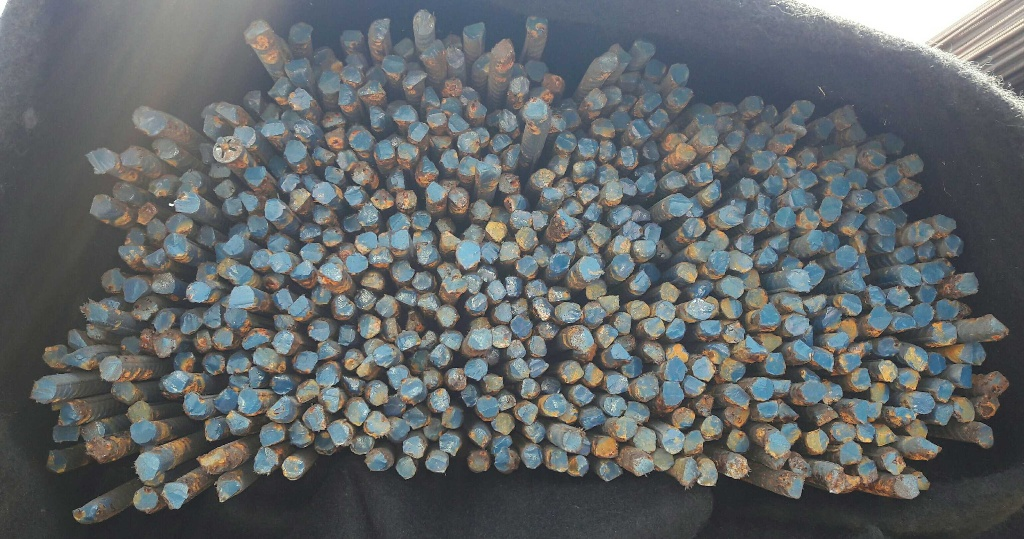dipstick: (132, 106, 166, 135), (86, 148, 116, 175), (244, 20, 274, 47), (213, 136, 244, 162), (980, 314, 1009, 341), (267, 396, 295, 422), (134, 452, 159, 481), (162, 483, 189, 509), (400, 378, 426, 404), (724, 384, 750, 410), (288, 188, 313, 215), (123, 277, 149, 302), (31, 378, 57, 403), (225, 411, 251, 436), (328, 421, 354, 446), (365, 412, 391, 437), (495, 448, 521, 473), (983, 371, 1008, 397), (132, 486, 159, 510), (153, 330, 177, 357), (254, 447, 278, 474), (303, 404, 327, 431), (635, 373, 659, 400), (883, 407, 915, 427), (677, 458, 699, 487), (912, 437, 941, 459), (217, 477, 242, 502), (316, 361, 341, 386), (565, 431, 590, 456), (894, 474, 919, 499), (259, 422, 285, 446), (346, 399, 370, 425), (632, 426, 656, 452), (801, 380, 827, 404), (166, 214, 193, 237), (43, 345, 70, 368), (367, 448, 394, 471), (160, 371, 188, 393), (98, 356, 122, 381), (87, 437, 112, 461), (183, 393, 207, 418), (322, 387, 346, 412), (456, 240, 480, 265), (641, 340, 665, 365), (720, 358, 745, 382), (819, 196, 843, 221), (766, 434, 791, 458), (881, 449, 905, 474), (214, 387, 237, 413), (404, 406, 430, 429), (567, 326, 593, 349), (67, 349, 95, 370), (722, 406, 750, 427), (237, 388, 261, 412), (357, 314, 381, 338), (101, 268, 124, 293), (229, 285, 254, 308), (253, 347, 278, 370), (666, 194, 691, 217), (663, 429, 686, 454), (932, 323, 957, 346), (974, 395, 999, 418), (110, 381, 136, 403), (130, 421, 156, 443), (199, 451, 225, 473), (366, 380, 388, 406), (580, 406, 606, 428), (704, 342, 730, 364), (555, 302, 582, 323), (782, 472, 803, 499), (242, 328, 270, 348), (202, 352, 226, 375), (295, 379, 318, 403), (349, 127, 373, 150), (372, 343, 395, 367), (426, 449, 449, 473), (579, 257, 602, 281), (723, 455, 747, 478), (692, 358, 716, 381), (836, 245, 859, 269), (787, 269, 810, 293), (806, 430, 829, 454), (870, 306, 893, 330), (897, 367, 920, 391), (417, 242, 439, 267), (463, 358, 488, 380), (491, 413, 516, 435), (587, 223, 612, 245), (701, 415, 723, 440), (708, 251, 730, 276), (961, 343, 986, 365), (90, 195, 113, 218), (164, 234, 187, 257), (440, 329, 463, 352), (515, 255, 538, 278), (515, 227, 538, 250), (495, 110, 518, 133), (612, 254, 635, 277), (727, 430, 750, 453), (133, 298, 157, 320), (57, 402, 81, 424), (293, 351, 317, 373), (388, 365, 410, 389), (562, 360, 584, 384), (583, 301, 605, 325), (554, 210, 576, 234), (671, 407, 695, 429), (664, 357, 686, 381), (743, 337, 767, 359), (843, 212, 865, 236), (871, 214, 895, 236), (906, 347, 928, 371), (175, 192, 200, 213), (319, 263, 344, 284), (391, 260, 416, 281), (153, 139, 179, 159), (830, 423, 856, 443), (953, 363, 973, 389), (698, 459, 717, 486), (180, 312, 202, 335), (289, 88, 311, 111), (214, 101, 236, 124), (233, 125, 256, 147), (247, 215, 269, 238), (282, 457, 305, 479), (284, 140, 307, 162), (343, 348, 365, 371), (402, 435, 424, 458), (437, 304, 459, 327), (835, 106, 857, 129), (751, 378, 774, 400), (909, 220, 932, 242), (127, 401, 151, 422), (227, 352, 251, 373), (272, 331, 293, 355), (313, 183, 337, 204), (414, 9, 435, 33), (413, 271, 437, 292), (468, 329, 492, 350), (547, 448, 568, 472), (595, 437, 619, 458), (763, 175, 787, 196), (785, 314, 809, 335), (821, 307, 842, 331), (874, 361, 898, 382), (888, 286, 912, 307), (935, 299, 959, 320), (910, 392, 934, 413), (186, 282, 211, 302), (523, 444, 543, 469), (683, 430, 703, 455), (687, 299, 712, 319), (812, 406, 837, 426), (955, 397, 975, 422), (359, 81, 385, 100), (86, 302, 108, 324), (289, 295, 311, 317), (333, 295, 355, 317), (354, 288, 376, 310), (429, 345, 451, 367), (524, 421, 546, 443), (544, 394, 566, 416), (492, 39, 514, 61), (526, 60, 548, 82), (573, 161, 595, 183), (615, 417, 637, 439), (722, 276, 744, 298), (840, 442, 862, 464), (901, 154, 923, 176), (941, 235, 963, 257), (270, 373, 293, 394), (324, 129, 347, 150), (370, 19, 391, 42), (457, 132, 480, 153), (352, 161, 373, 184), (371, 188, 394, 209), (439, 433, 462, 454), (476, 396, 499, 417), (511, 315, 532, 338), (604, 395, 627, 416), (524, 98, 547, 119), (596, 163, 619, 184), (629, 270, 650, 293), (622, 355, 643, 378), (626, 402, 649, 423), (707, 228, 728, 251), (780, 293, 803, 314), (827, 332, 850, 353), (804, 263, 825, 286), (866, 284, 887, 307), (922, 263, 945, 284), (300, 243, 324, 263), (719, 205, 743, 225), (752, 150, 776, 170), (876, 337, 900, 357), (461, 383, 480, 408), (532, 297, 551, 322), (530, 168, 555, 187), (476, 161, 502, 179), (47, 451, 68, 473), (174, 351, 195, 373), (308, 320, 330, 341), (355, 232, 377, 253), (376, 294, 397, 316), (441, 407, 463, 428), (567, 455, 588, 477), (644, 317, 666, 338), (633, 453, 654, 475), (722, 321, 744, 342), (711, 145, 732, 167), (765, 353, 786, 375), (840, 293, 862, 314), (839, 352, 861, 373), (779, 401, 800, 423), (899, 265, 921, 286), (854, 189, 876, 210), (913, 304, 934, 326), (926, 353, 947, 375), (933, 380, 954, 402), (152, 273, 175, 293), (153, 311, 176, 331), (81, 422, 104, 442), (212, 327, 232, 350), (224, 308, 247, 328), (359, 203, 379, 226), (418, 157, 438, 180), (369, 247, 392, 267), (398, 330, 421, 350), (396, 456, 416, 479), (492, 325, 512, 348), (599, 461, 622, 481), (542, 73, 565, 93), (633, 239, 656, 259), (663, 381, 683, 404), (690, 241, 713, 261), (933, 214, 956, 234), (142, 248, 166, 267), (431, 388, 450, 412), (591, 119, 615, 138), (826, 470, 845, 494), (975, 425, 994, 449), (361, 272, 386, 290), (319, 72, 340, 93), (337, 150, 358, 171), (468, 451, 489, 472), (499, 173, 520, 194), (458, 155, 479, 176), (585, 88, 606, 109), (602, 183, 623, 204), (677, 262, 698, 283), (775, 207, 796, 228), (757, 248, 778, 269), (907, 418, 928, 439), (204, 419, 224, 441), (244, 166, 266, 186), (218, 258, 238, 280), (270, 252, 292, 272), (373, 140, 395, 160), (468, 428, 490, 448), (418, 293, 440, 313), (469, 200, 491, 220), (721, 298, 743, 318), (792, 341, 814, 361), (814, 351, 834, 373), (845, 169, 867, 189), (957, 273, 979, 293), (290, 22, 313, 41), (230, 265, 253, 284), (274, 289, 293, 312), (312, 146, 335, 165), (382, 55, 405, 74), (345, 254, 368, 273), (447, 367, 466, 390), (598, 324, 617, 347), (503, 194, 526, 213), (594, 52, 617, 71), (576, 139, 599, 158), (670, 63, 689, 86), (682, 375, 705, 394), (822, 160, 845, 179), (849, 401, 868, 424), (285, 58, 309, 76), (316, 340, 340, 358), (261, 119, 285, 137), (340, 30, 364, 48), (443, 276, 467, 294), (73, 506, 98, 523), (121, 146, 142, 166), (244, 91, 264, 112), (291, 259, 312, 279), (351, 434, 372, 454), (509, 359, 530, 379), (504, 277, 524, 298), (528, 358, 549, 378), (572, 385, 593, 405), (486, 221, 507, 241), (511, 209, 532, 229), (556, 131, 577, 151), (611, 205, 632, 225), (635, 172, 655, 193), (623, 220, 644, 240), (666, 319, 686, 340), (794, 99, 815, 119), (798, 149, 819, 169), (858, 461, 878, 482), (883, 134, 904, 154), (147, 218, 166, 240), (203, 116, 225, 135), (265, 199, 284, 221), (222, 235, 244, 254), (407, 122, 429, 141), (448, 113, 470, 132), (396, 287, 418, 306), (609, 111, 631, 130), (746, 289, 768, 308), (781, 423, 800, 445), (871, 382, 890, 404), (844, 271, 866, 290), (119, 244, 145, 260), (300, 223, 323, 241), (404, 71, 427, 89), (482, 242, 500, 265), (605, 374, 628, 392), (525, 15, 548, 33), (629, 119, 652, 137), (620, 146, 638, 169), (613, 311, 631, 334), (321, 110, 345, 127), (369, 106, 386, 130), (394, 37, 414, 57), (518, 404, 538, 424), (462, 274, 482, 294), (881, 187, 901, 207), (900, 178, 920, 198), (933, 405, 953, 425), (113, 182, 134, 201), (149, 177, 170, 196), (66, 329, 85, 350), (269, 78, 290, 97), (268, 234, 289, 253), (337, 325, 356, 346), (341, 65, 362, 84), (338, 85, 357, 106), (426, 110, 447, 129), (441, 77, 462, 96), (421, 369, 442, 388), (494, 301, 513, 322), (487, 280, 506, 301), (584, 363, 603, 384), (549, 253, 570, 272), (583, 202, 604, 221), (665, 171, 686, 190), (684, 218, 705, 237), (777, 157, 798, 176), (748, 209, 769, 228), (916, 284, 937, 303), (490, 134, 512, 152), (609, 44, 631, 62), (795, 170, 817, 188), (852, 368, 870, 390), (394, 105, 417, 122), (633, 41, 656, 58), (239, 191, 258, 211), (251, 249, 271, 268), (324, 227, 344, 246), (342, 213, 362, 232), (412, 210, 431, 230), (427, 182, 446, 202), (391, 229, 410, 249), (467, 293, 487, 312), (448, 188, 468, 207), (612, 235, 631, 255), (656, 301, 675, 321), (698, 126, 718, 145), (740, 178, 759, 198), (830, 178, 850, 197), (770, 234, 789, 254), (180, 171, 201, 189), (214, 179, 235, 197), (279, 173, 300, 191), (398, 141, 419, 159), (441, 149, 459, 170), (389, 213, 410, 231), (529, 336, 547, 357), (629, 300, 650, 318), (397, 190, 416, 209), (499, 241, 518, 260), (693, 164, 712, 183), (758, 400, 777, 419), (856, 423, 875, 442), (311, 285, 331, 303), (312, 206, 332, 224), (446, 48, 464, 68), (345, 186, 363, 206), (521, 379, 539, 399), (672, 87, 692, 105), (661, 282, 679, 302), (847, 123, 867, 141), (895, 246, 915, 264), (125, 228, 146, 245), (222, 198, 243, 215), (577, 184, 598, 201), (700, 321, 721, 338), (774, 133, 795, 150), (463, 23, 485, 39), (424, 87, 440, 109), (640, 93, 662, 109), (650, 108, 668, 127), (599, 140, 617, 159), (600, 295, 619, 313), (725, 131, 744, 149), (807, 231, 826, 249), (866, 150, 885, 168), (325, 165, 345, 182), (464, 224, 484, 241), (643, 140, 660, 160), (676, 144, 696, 161), (744, 96, 764, 113), (817, 117, 834, 137), (788, 187, 805, 207), (548, 286, 570, 301), (507, 340, 525, 358), (736, 236, 754, 254), (468, 100, 487, 117), (527, 279, 546, 296), (611, 343, 630, 360), (645, 61, 665, 77), (441, 231, 459, 247), (824, 232, 838, 252), (542, 189, 563, 202), (716, 103, 737, 115)
